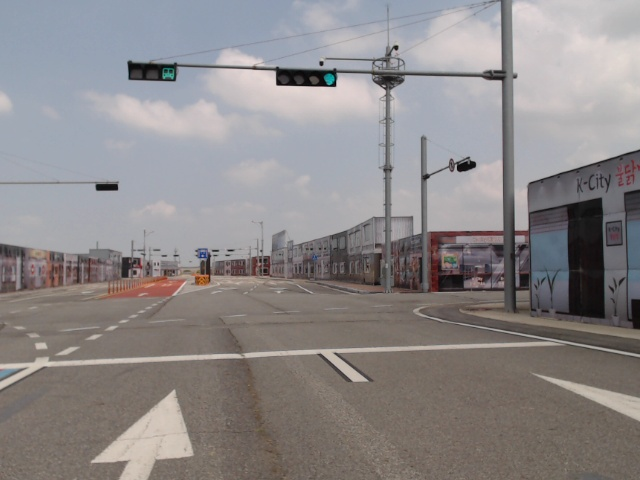straight_green_4: (276, 69, 336, 86)
